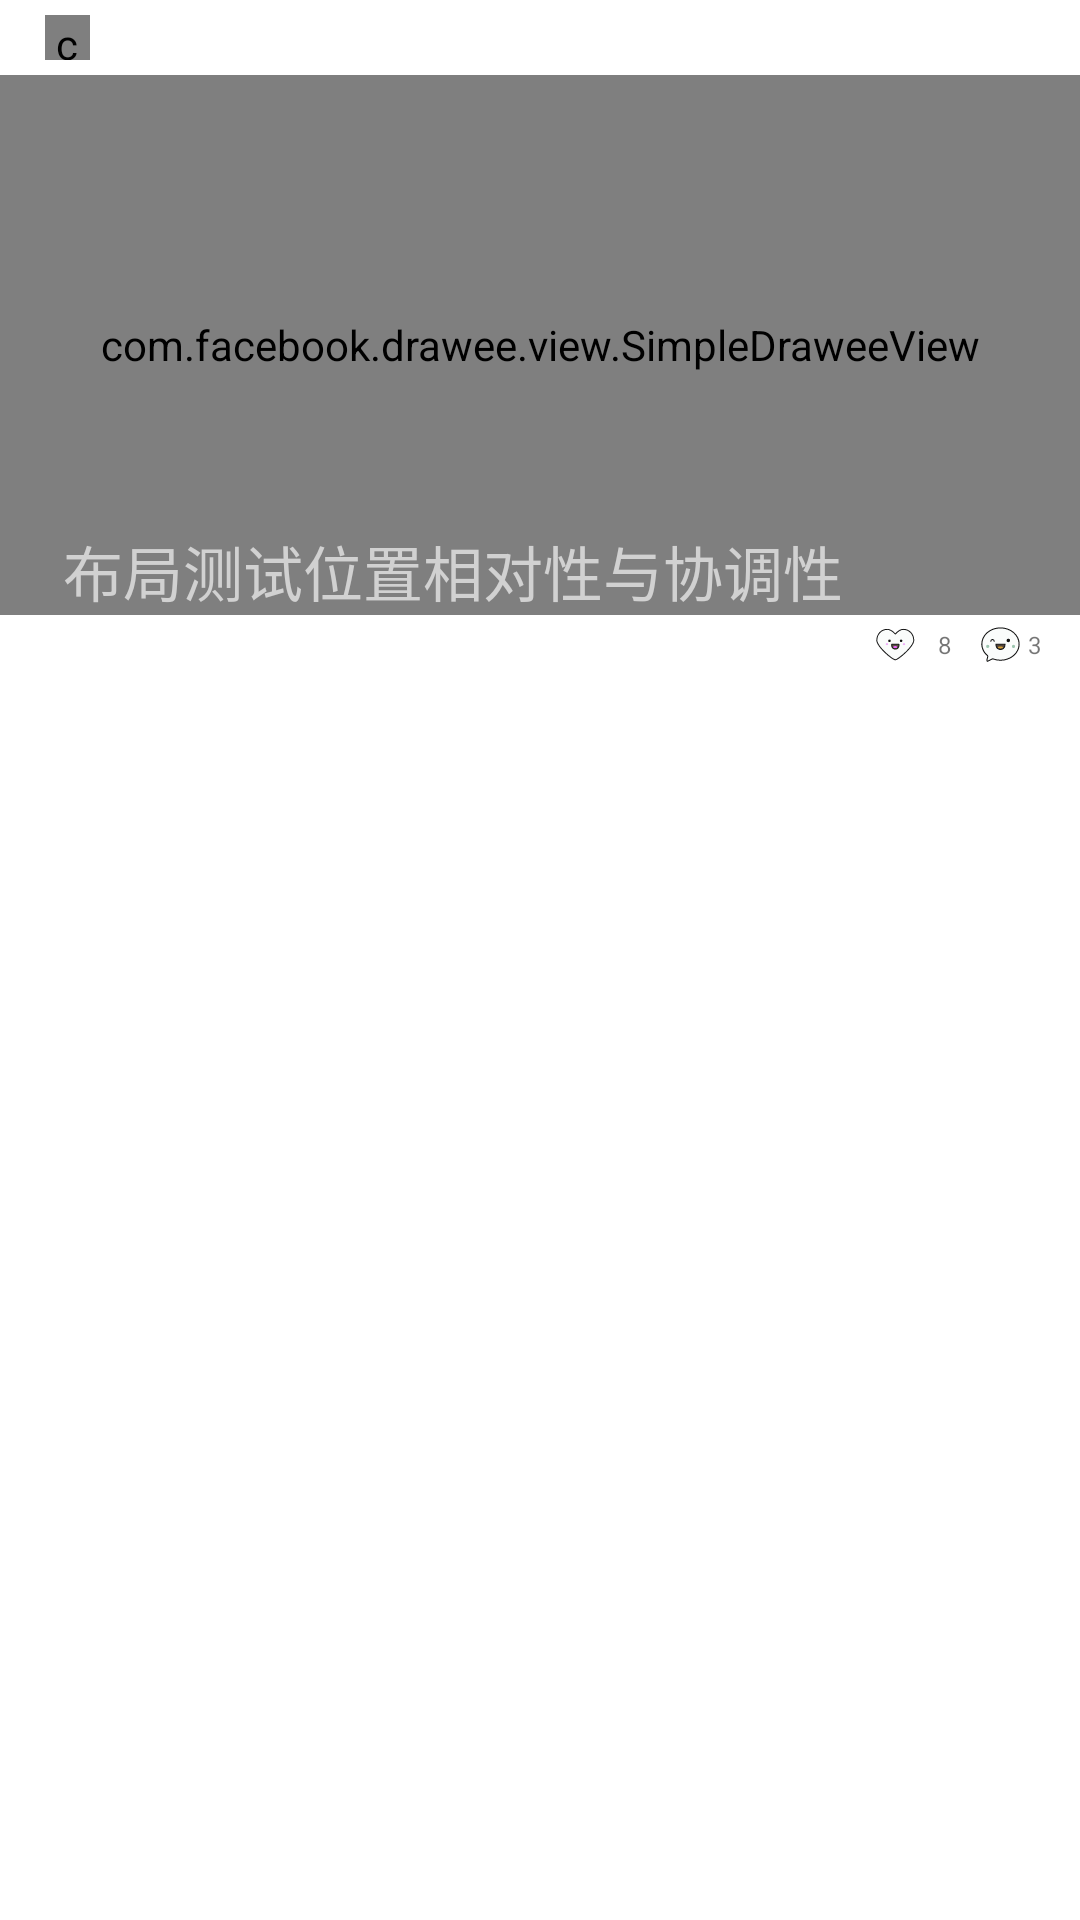

Locate icon controls on the screen. Image size 1080 x 1920, boxes as (x1, y1, x2, y2).
chat: (981, 627, 1020, 662)
heart: (876, 629, 915, 661)
